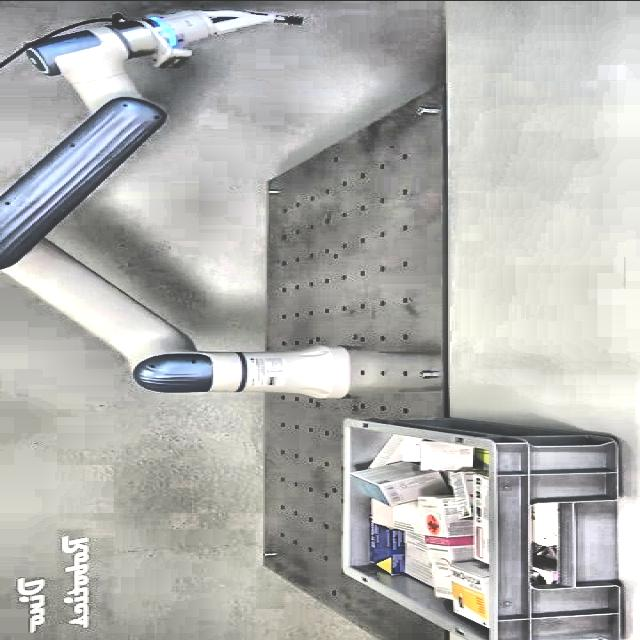robot: (0, 7, 350, 398)
